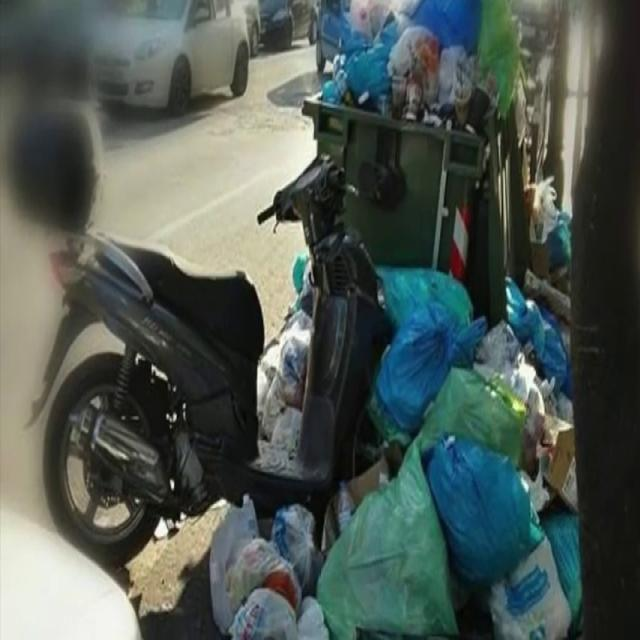garbage: (231, 253, 578, 640), (288, 2, 530, 150)
